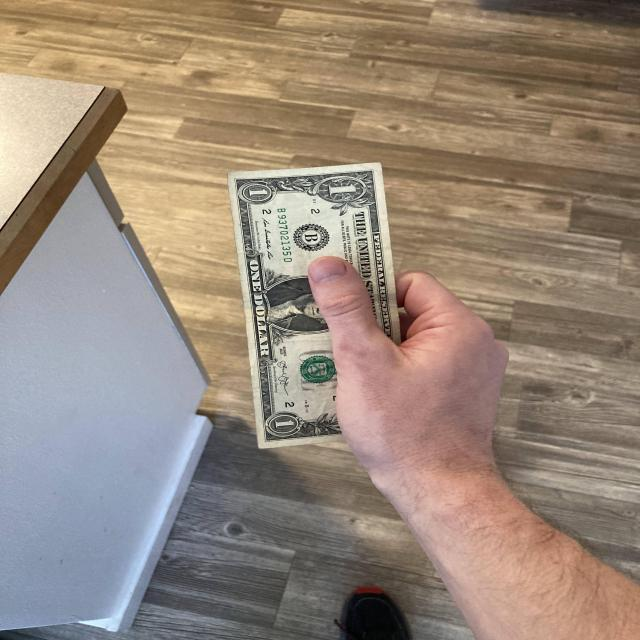one: (226, 160, 402, 450)
